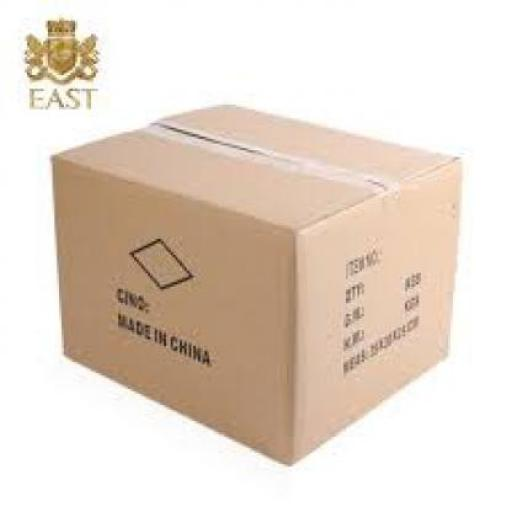cardboard: (47, 103, 460, 462)
